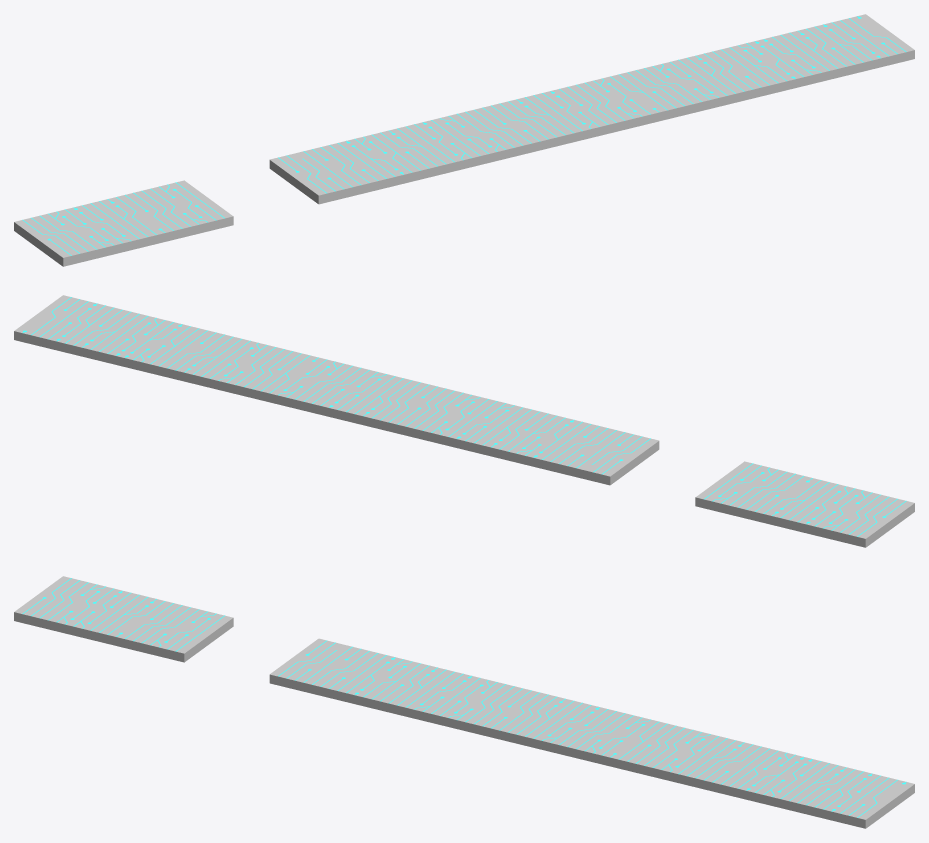
File: floor_metallic4.glb
The picture shows the model from 3 angles, top to bottom: view 1: azimuth 30°, elevation 25°; view 2: azimuth 150°, elevation 25°; view 3: azimuth 330°, elevation 25°; orthographic projection.
Visible parts, largest first — view 1: Cube.003, StraightLine.014; view 2: Cube.003, StraightLine.014; view 3: Cube.003, StraightLine.014.
Part boxes in pixels (left/top/right/bottom): Cube.003: left=14, top=14, right=914, bottom=266; StraightLine.014: left=22, top=16, right=906, bottom=255; Cube.003: left=14, top=295, right=914, bottom=547; StraightLine.014: left=22, top=297, right=906, bottom=536; Cube.003: left=14, top=576, right=914, bottom=828; StraightLine.014: left=22, top=578, right=906, bottom=817.
Size of the model in its own units: 200 by 2.05 by 20.
